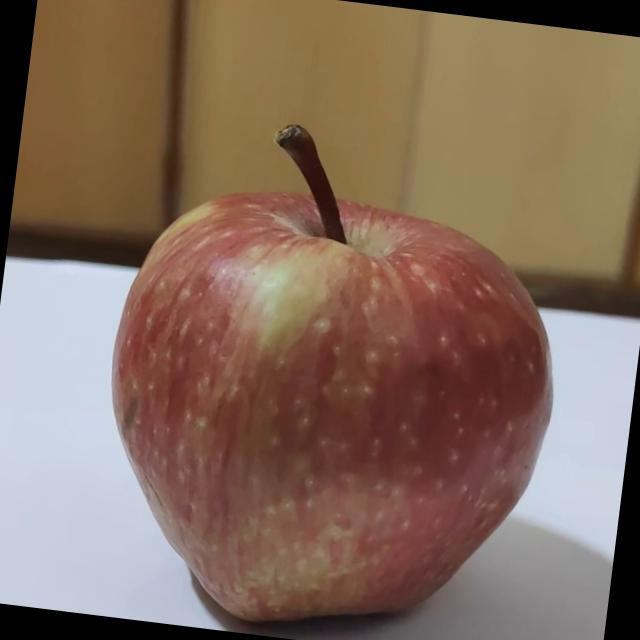apple: (77, 96, 588, 640)
